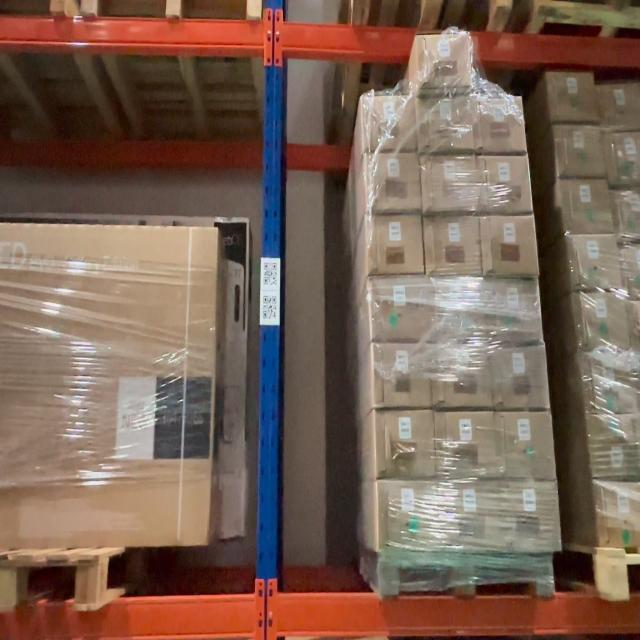box: (378, 480, 438, 550), (441, 482, 496, 549), (502, 482, 557, 548), (438, 412, 492, 476), (378, 411, 432, 475), (496, 414, 551, 476), (375, 342, 427, 407), (432, 346, 488, 406), (372, 277, 426, 337), (429, 279, 482, 338), (493, 346, 545, 406), (486, 279, 535, 342), (476, 155, 528, 212), (483, 217, 534, 275), (370, 215, 421, 270), (370, 153, 418, 210), (426, 216, 476, 270), (419, 96, 468, 150), (425, 156, 473, 210), (366, 94, 413, 149), (475, 98, 521, 153), (417, 36, 464, 86)
